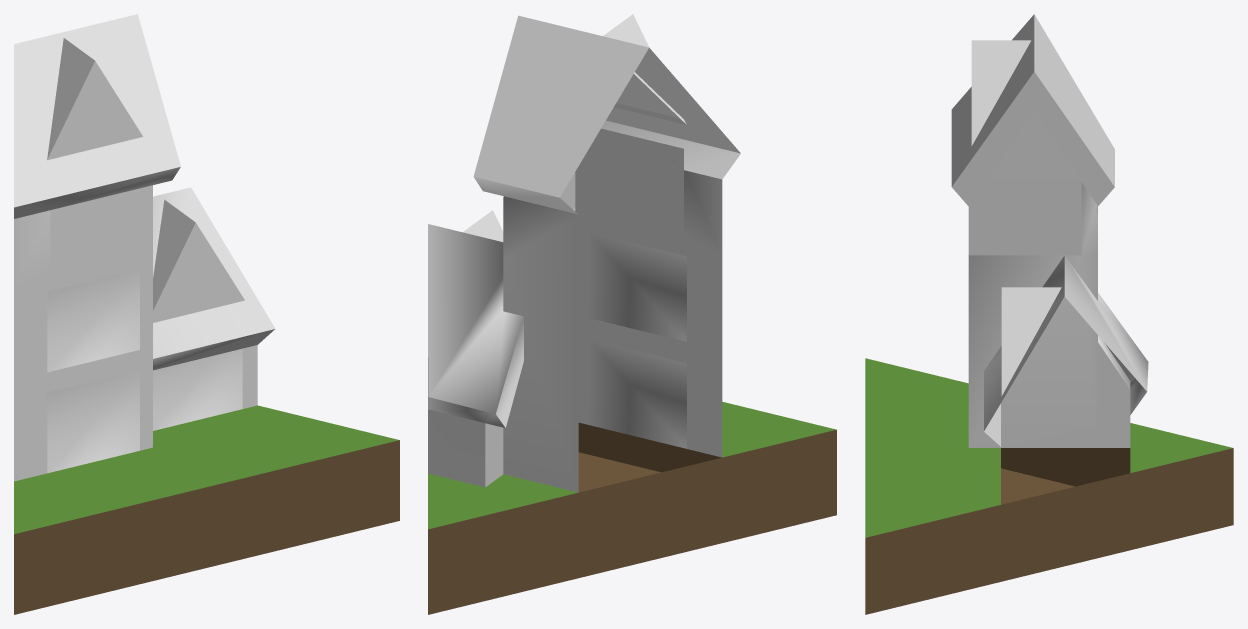
The model's file is Casa_to_Pis_EE.fbx.
3 renders of one model, left to right at view 1: azimuth 30°, elevation 25°; view 2: azimuth 150°, elevation 25°; view 3: azimuth 270°, elevation 25°, orthographic. The views are drawn at different scales.
Parts seen in each view (by area): view 1: Casa_to_Pis_EE, DetallParet.075, DetallParet.074, DetallTeulada.029, DetallTeulada.028, DetallCantonada.014, DetallParet.076; view 2: Casa_to_Pis_EE, DetallCantonada.014, DetallParet.074, DetallParet.075, DetallTeulada.028, DetallTeulada.029; view 3: Casa_to_Pis_EE, DetallCantonada.014, DetallTeulada.029, DetallTeulada.028, DetallAltell_1.006.
Part boxes in pixels (x1,y1,x2,y2): Casa_to_Pis_EE: [14, 14, 399, 614]; DetallParet.075: [47, 269, 139, 372]; DetallParet.074: [47, 370, 139, 473]; DetallTeulada.029: [153, 199, 244, 322]; DetallTeulada.028: [47, 38, 142, 160]; DetallCantonada.014: [50, 185, 152, 270]; DetallParet.076: [153, 348, 242, 430]; Casa_to_Pis_EE: [428, 15, 836, 614]; DetallCantonada.014: [560, 128, 683, 234]; DetallParet.074: [589, 339, 686, 448]; DetallParet.075: [589, 232, 686, 341]; DetallTeulada.028: [603, 14, 686, 124]; DetallTeulada.029: [463, 210, 503, 241]; Casa_to_Pis_EE: [865, 14, 1233, 614]; DetallCantonada.014: [968, 178, 1081, 255]; DetallTeulada.029: [1001, 287, 1061, 395]; DetallTeulada.028: [971, 40, 1031, 145]; DetallAltell_1.006: [988, 110, 1078, 178].
Size of the model in its own units: 100 by 120 by 86.6.
